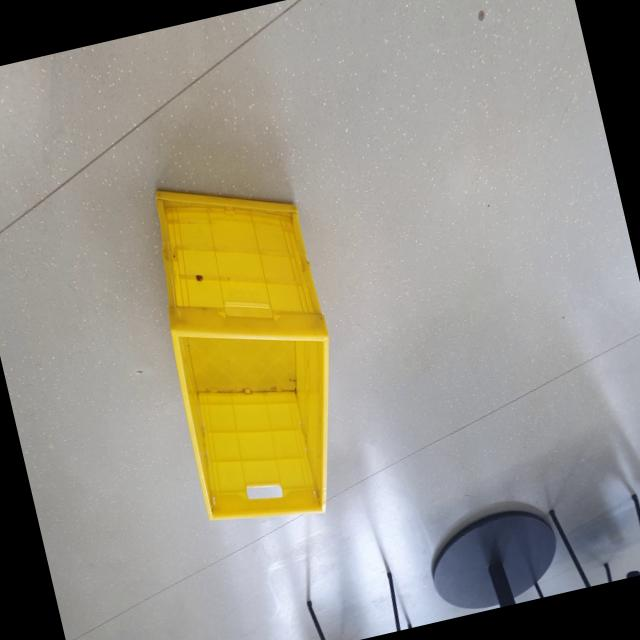box: (126, 152, 373, 542)
